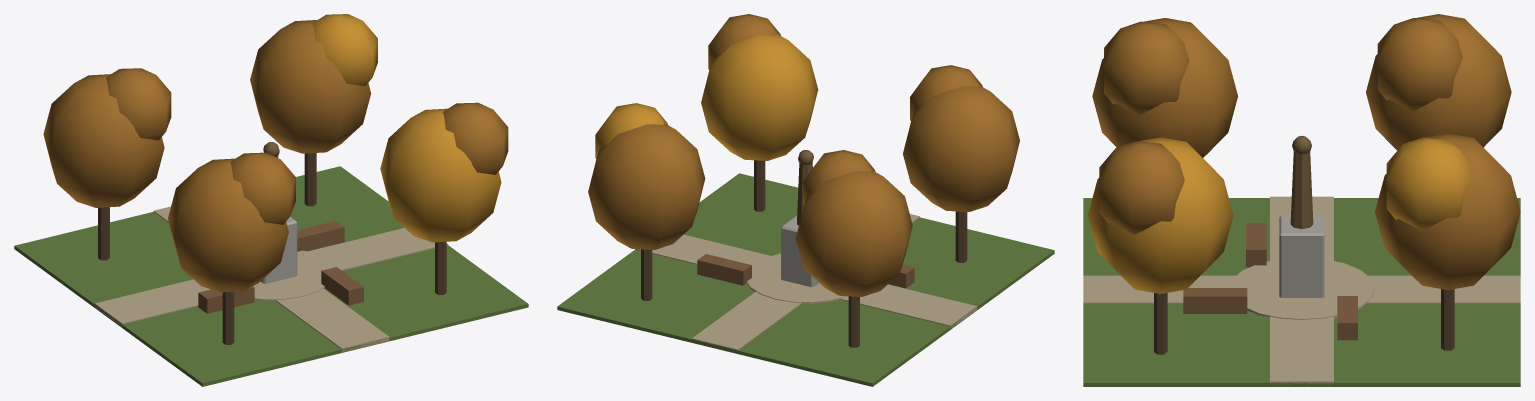
The model's file is park.glb.
The picture shows the model from 3 angles, left to right: view 1: azimuth 30°, elevation 25°; view 2: azimuth 150°, elevation 25°; view 3: azimuth 270°, elevation 25°; orthographic projection. The views are drawn at different scales.
Parts seen in each view (by area): view 1: park; view 2: park; view 3: park.
Boxes of the visible parts, x1,y1,x2,y2 form: park: (14, 14, 528, 386); park: (557, 14, 1054, 386); park: (1083, 14, 1520, 386).
Bounding box in the file's own units: 9.62 × 5.4 × 9.6.
